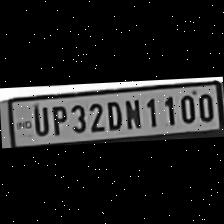0: (176, 91, 196, 123), (194, 90, 214, 122)
1: (141, 94, 159, 128), (158, 92, 176, 126)
2: (84, 99, 106, 134)
3: (66, 100, 86, 134)
D: (102, 97, 122, 131)
N: (121, 96, 143, 130)
P: (48, 102, 69, 136)
U: (29, 102, 50, 136)
